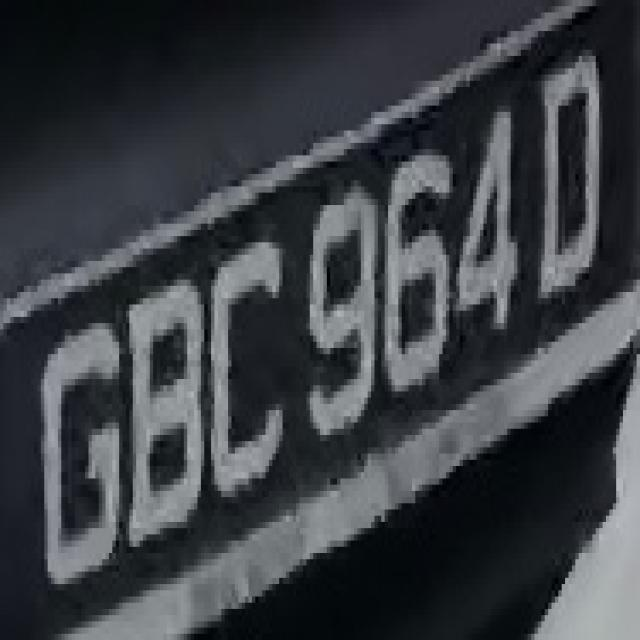4: (449, 100, 521, 366)
6: (381, 137, 456, 435)
9: (296, 168, 392, 466)
B: (129, 255, 211, 565)
C: (204, 217, 296, 516)
D: (534, 50, 613, 323)
G: (24, 298, 136, 590)
